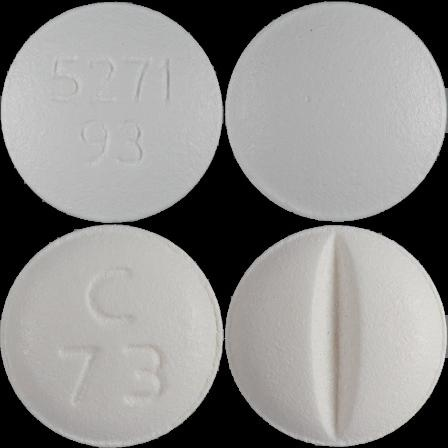54868-5013: (0, 0, 224, 224)
